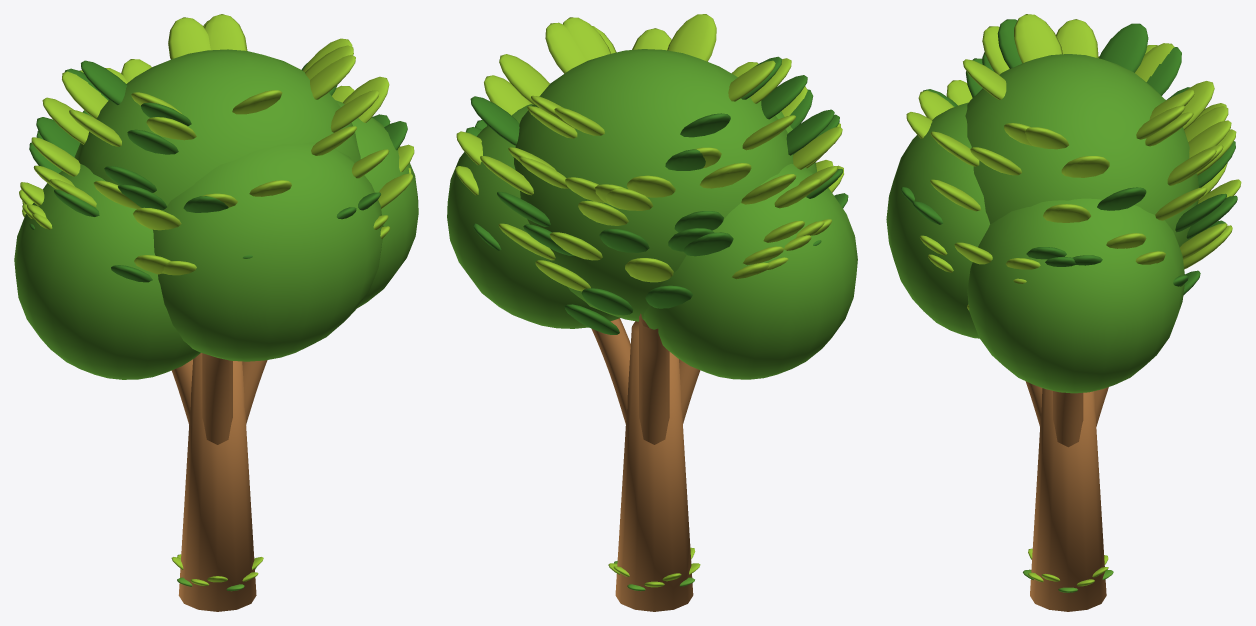
Rendered from tree_round.glb.
3 views of the same model, side by side, from view 1: azimuth 30°, elevation 25°; view 2: azimuth 150°, elevation 25°; view 3: azimuth 270°, elevation 25° (orthographic).
Visible parts, largest first — view 1: tree_round; view 2: tree_round; view 3: tree_round.
Boxes of the visible parts, x1,y1,x2,y2 form: tree_round: (14,14,418,611); tree_round: (447,14,857,611); tree_round: (886,14,1241,611).
Size of the model in its own units: 2.15 by 2.92 by 1.76.
